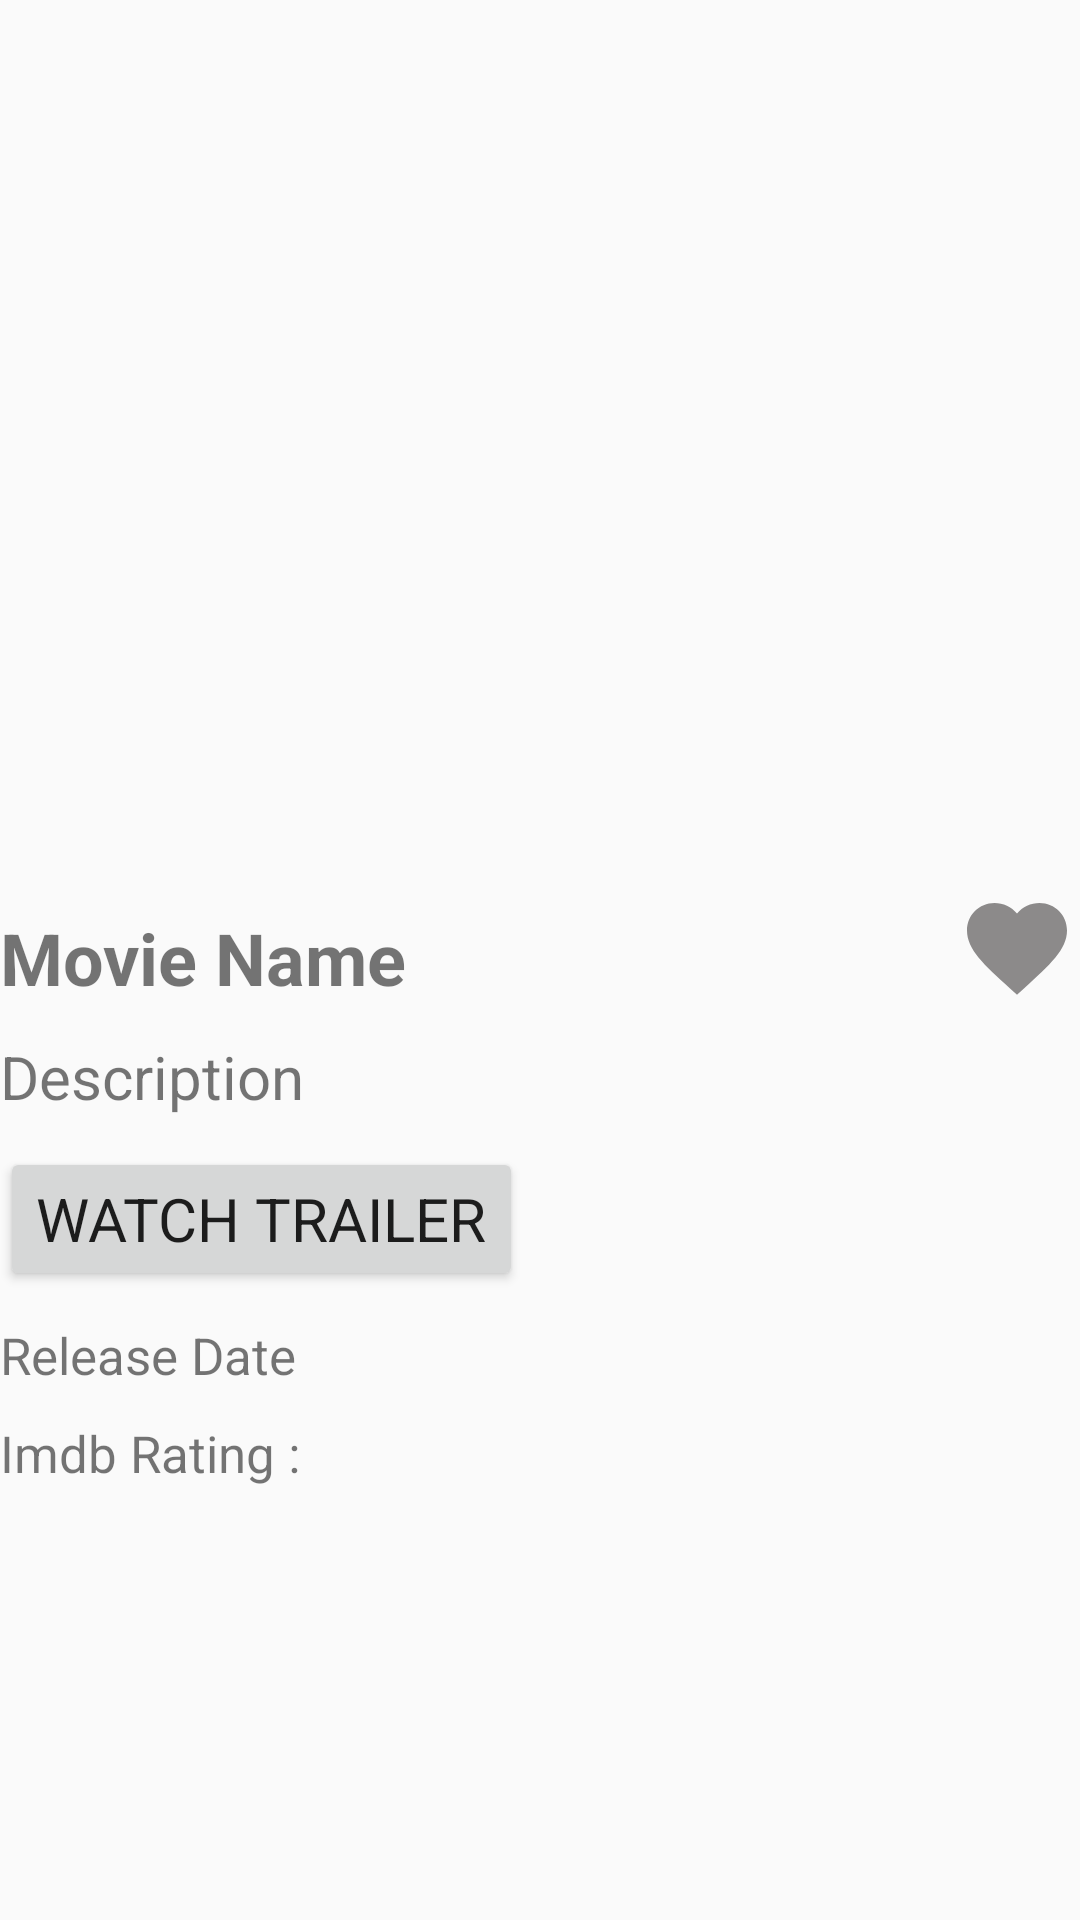

Named icons in this screenshot (1080px×1920px) and their centers, (x=x, y=y):
unfav: (x=1017, y=949)
